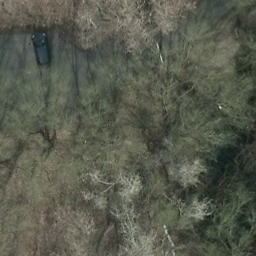car: (30, 34, 52, 65)
